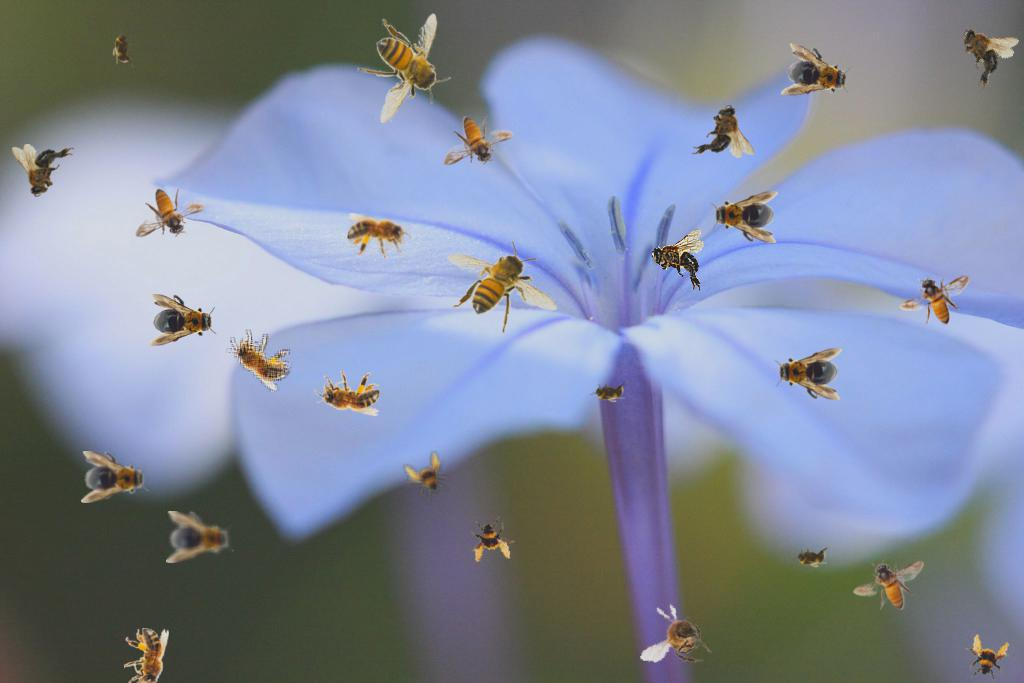Bee: (447, 240, 558, 334), (357, 13, 451, 124), (942, 11, 1023, 93), (639, 599, 720, 673), (219, 321, 299, 394), (780, 43, 856, 105), (396, 447, 458, 509), (443, 116, 514, 166), (135, 188, 206, 238), (853, 560, 924, 610), (899, 275, 970, 325), (166, 511, 234, 563), (81, 451, 149, 503), (710, 191, 778, 243), (149, 294, 217, 346), (774, 348, 842, 400), (651, 229, 704, 291), (692, 105, 754, 158), (12, 144, 74, 197), (314, 371, 380, 416), (347, 213, 413, 258), (466, 514, 518, 566), (960, 632, 1012, 683), (124, 628, 169, 683), (112, 28, 134, 68), (791, 546, 831, 568), (589, 381, 629, 403)
